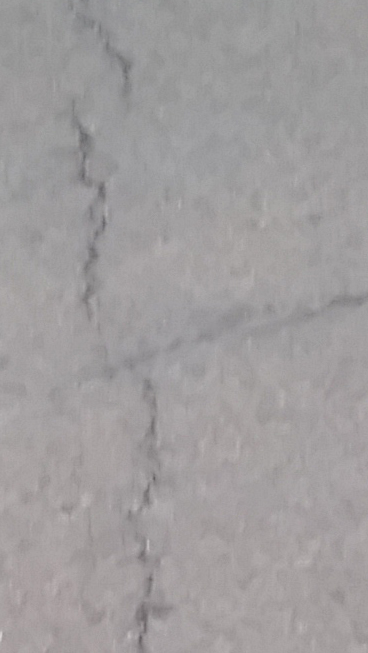A: (36, 1, 189, 651)
